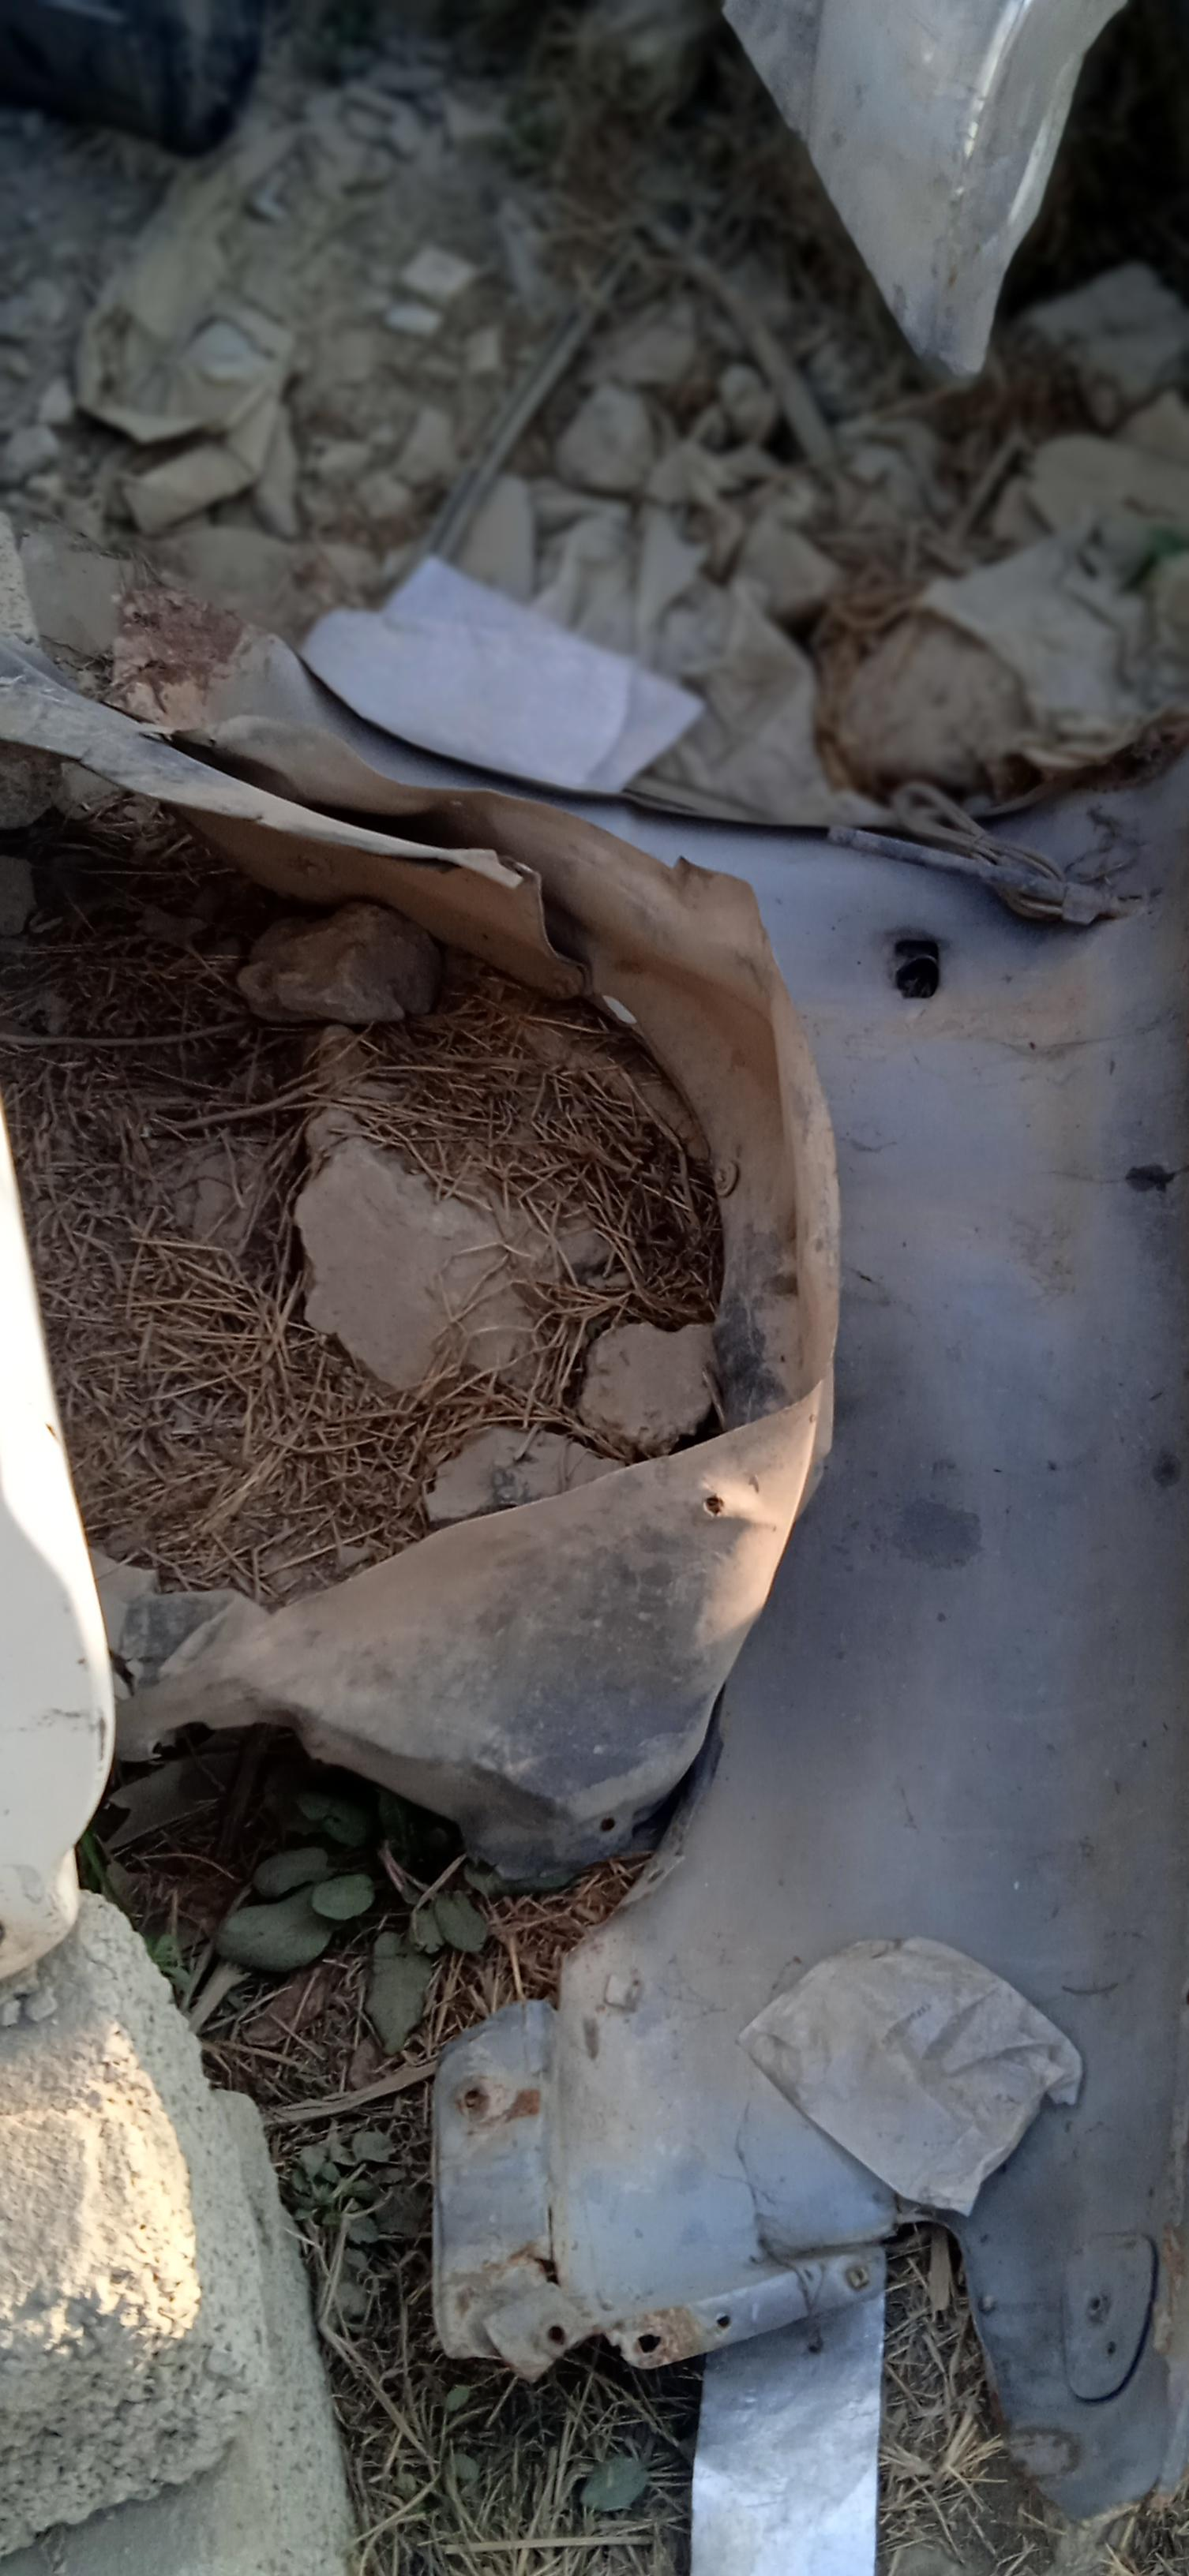automobile: (391, 762, 1189, 2471), (714, 0, 1171, 379)
